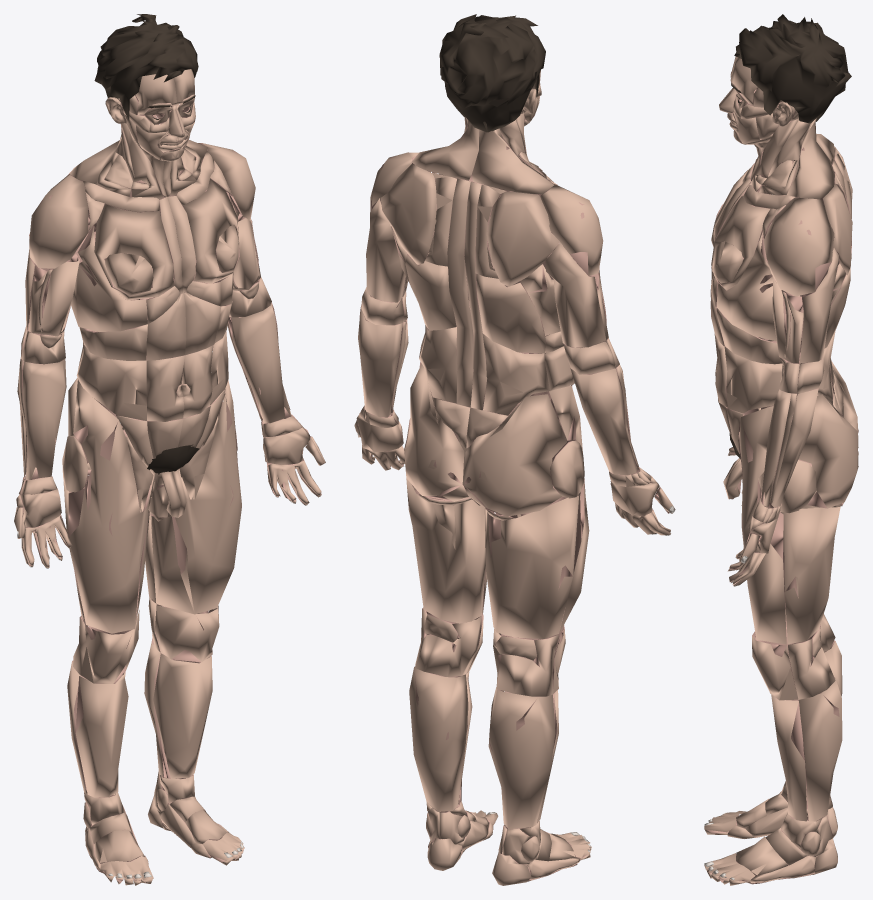
File: adult_male.surface.LOD3.glb
3 renders of one model, left to right at view 1: azimuth 30°, elevation 25°; view 2: azimuth 150°, elevation 25°; view 3: azimuth 270°, elevation 25°, orthographic. The views are drawn at different scales.
Visible parts, largest first — view 1: ADULT.MALE.SURFACE.ANTERIOR_REGION_OF_THIGH.R, ADULT.MALE.SURFACE.ANTERIOR_REGION_OF_THIGH.L, ADULT.MALE.SURFACE.HAIRS_OF_HEAD, ADULT.MALE.SURFACE.ANTERIOR_REGION_OF_LEG.L, ADULT.MALE.SURFACE.ANTERIOR_REGION_OF_LEG.R, ADULT.MALE.SURFACE.PECTORAL_REGION.R, ADULT.MALE.SURFACE.ANTERIOR_REGION_OF_FOREARM.L, ADULT.MALE.SURFACE.DELTOID_REGION.R, ADULT.MALE.SURFACE.ANTERIOR_REGION_OF_FOREARM.R, ADULT.MALE.SURFACE.LATERAL_REGION_OF_THORAX.R, ADULT.MALE.SURFACE.LATERAL_REGION_OF_ABDOMEN.R, ADULT.MALE.SURFACE.PECTORAL_REGION.L (+47 smaller); view 2: ADULT.MALE.SURFACE.POSTERIOR_REGION_OF_THIGH.R, ADULT.MALE.SURFACE.HAIRS_OF_HEAD, ADULT.MALE.SURFACE.GLUTEAL_REGION.R, ADULT.MALE.SURFACE.POSTERIOR_REGION_OF_THIGH.L, ADULT.MALE.SURFACE.POSTERIOR_REGION_OF_LEG.R, ADULT.MALE.SURFACE.POSTERIOR_REGION_OF_LEG.L, ADULT.MALE.SURFACE.GLUTEAL_REGION.L, ADULT.MALE.SURFACE.SCAPULAR_REGION.R, ADULT.MALE.SURFACE.INFRASCAPULAR_REGION.R, ADULT.MALE.SURFACE.POSTERIOR_REGION_OF_ARM.R, ADULT.MALE.SURFACE.POSTERIOR_REGION_OF_FOREARM.R, ADULT.MALE.SURFACE.VERTEBRAL_REGION.L (+32 smaller); view 3: ADULT.MALE.SURFACE.HAIRS_OF_HEAD, ADULT.MALE.SURFACE.ANTERIOR_REGION_OF_THIGH.L, ADULT.MALE.SURFACE.POSTERIOR_REGION_OF_THIGH.L, ADULT.MALE.SURFACE.DELTOID_REGION.L, ADULT.MALE.SURFACE.GLUTEAL_REGION.L, ADULT.MALE.SURFACE.POSTERIOR_REGION_OF_LEG.L, ADULT.MALE.SURFACE.LATERAL_REGION_OF_THORAX.L, ADULT.MALE.SURFACE.ANTERIOR_REGION_OF_LEG.L, ADULT.MALE.SURFACE.LATERAL_REGION_OF_ABDOMEN.L, ADULT.MALE.SURFACE.POSTERIOR_REGION_OF_ARM.L, ADULT.MALE.SURFACE.PECTORAL_REGION.L, ADULT.MALE.SURFACE.POSTERIOR_REGION_OF_NECK.L (+44 smaller).
Boxes of the visible parts, x1,y1,x2,y2 form: ADULT.MALE.SURFACE.ANTERIOR_REGION_OF_THIGH.R: (68,379,154,633); ADULT.MALE.SURFACE.ANTERIOR_REGION_OF_THIGH.L: (151,354,241,614); ADULT.MALE.SURFACE.HAIRS_OF_HEAD: (94,14,198,120); ADULT.MALE.SURFACE.ANTERIOR_REGION_OF_LEG.L: (153,653,212,778); ADULT.MALE.SURFACE.ANTERIOR_REGION_OF_LEG.R: (75,671,128,797); ADULT.MALE.SURFACE.PECTORAL_REGION.R: (94,204,174,300); ADULT.MALE.SURFACE.ANTERIOR_REGION_OF_FOREARM.L: (228,303,291,423); ADULT.MALE.SURFACE.DELTOID_REGION.R: (29,174,88,268); ADULT.MALE.SURFACE.ANTERIOR_REGION_OF_FOREARM.R: (22,359,66,479); ADULT.MALE.SURFACE.LATERAL_REGION_OF_THORAX.R: (71,225,147,331); ADULT.MALE.SURFACE.LATERAL_REGION_OF_ABDOMEN.R: (76,342,146,420); ADULT.MALE.SURFACE.PECTORAL_REGION.L: (183,178,239,283); ADULT.MALE.SURFACE.POSTERIOR_REGION_OF_THIGH.R: (484,495,578,638); ADULT.MALE.SURFACE.HAIRS_OF_HEAD: (439,14,545,132); ADULT.MALE.SURFACE.GLUTEAL_REGION.R: (463,394,566,516); ADULT.MALE.SURFACE.POSTERIOR_REGION_OF_THIGH.L: (406,478,485,623); ADULT.MALE.SURFACE.POSTERIOR_REGION_OF_LEG.R: (488,687,555,829); ADULT.MALE.SURFACE.POSTERIOR_REGION_OF_LEG.L: (409,666,468,811); ADULT.MALE.SURFACE.GLUTEAL_REGION.L: (404,364,469,501); ADULT.MALE.SURFACE.SCAPULAR_REGION.R: (486,191,559,286); ADULT.MALE.SURFACE.INFRASCAPULAR_REGION.R: (476,274,545,353); ADULT.MALE.SURFACE.POSTERIOR_REGION_OF_ARM.R: (545,242,606,347); ADULT.MALE.SURFACE.POSTERIOR_REGION_OF_FOREARM.R: (570,368,637,475); ADULT.MALE.SURFACE.VERTEBRAL_REGION.L: (447,178,473,407); ADULT.MALE.SURFACE.HAIRS_OF_HEAD: (734,14,851,123); ADULT.MALE.SURFACE.ANTERIOR_REGION_OF_THIGH.L: (739,406,786,644); ADULT.MALE.SURFACE.POSTERIOR_REGION_OF_THIGH.L: (784,490,840,643); ADULT.MALE.SURFACE.DELTOID_REGION.L: (763,197,834,296); ADULT.MALE.SURFACE.GLUTEAL_REGION.L: (798,394,858,508); ADULT.MALE.SURFACE.POSTERIOR_REGION_OF_LEG.L: (798,677,842,821); ADULT.MALE.SURFACE.LATERAL_REGION_OF_THORAX.L: (716,231,845,341); ADULT.MALE.SURFACE.ANTERIOR_REGION_OF_LEG.L: (771,694,806,821); ADULT.MALE.SURFACE.LATERAL_REGION_OF_ABDOMEN.L: (724,346,782,413); ADULT.MALE.SURFACE.POSTERIOR_REGION_OF_ARM.L: (799,247,838,363); ADULT.MALE.SURFACE.PECTORAL_REGION.L: (711,196,769,290); ADULT.MALE.SURFACE.POSTERIOR_REGION_OF_NECK.L: (787,118,834,199).
Bounding box in the file's own units: 0.68 × 1.74 × 0.292.
